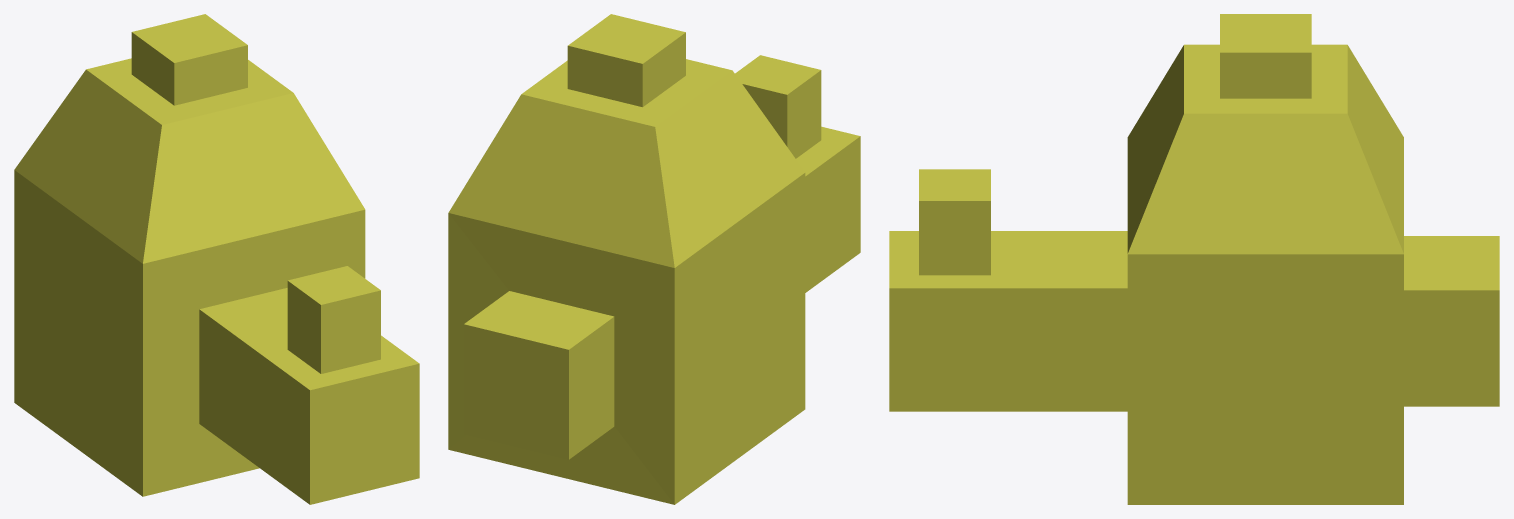
The model's file is cubicrock1.fbx.
The picture shows the model from 3 angles, left to right: view 1: azimuth 30°, elevation 25°; view 2: azimuth 150°, elevation 25°; view 3: azimuth 270°, elevation 25°; orthographic projection. The views are drawn at different scales.
Visible parts, largest first — view 1: Cube; view 2: Cube; view 3: Cube.
Boxes of the visible parts, <box> form: Cube: <box>14,14,419,504</box>; Cube: <box>448,14,860,504</box>; Cube: <box>889,14,1499,504</box>.
Size of the model in its own units: 200 by 330 by 441.
